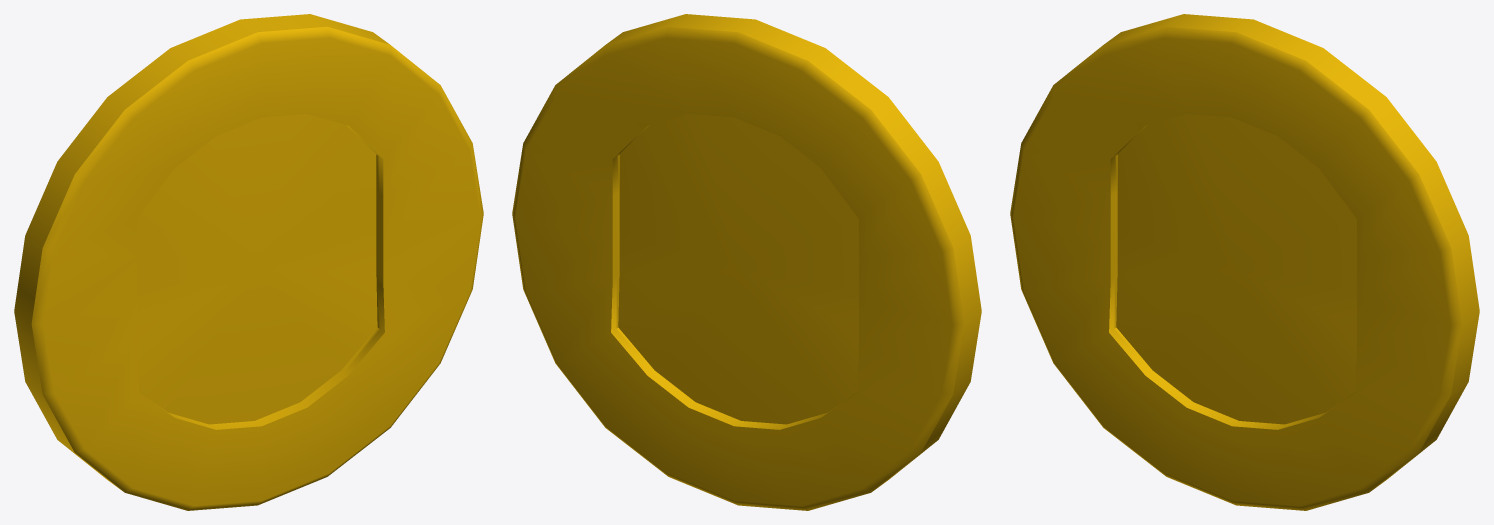
The model's file is coin.fbx.
3 renders of one model, left to right at view 1: azimuth 30°, elevation 25°; view 2: azimuth 150°, elevation 25°; view 3: azimuth 330°, elevation 25°, orthographic.
Visible parts, largest first — view 1: pCylinder1; view 2: pCylinder1; view 3: pCylinder1.
Boxes of the visible parts, bbox=[...] form: pCylinder1: bbox=[14, 14, 483, 510]; pCylinder1: bbox=[512, 14, 981, 510]; pCylinder1: bbox=[1010, 14, 1479, 510].
Bounding box in the file's own units: 30 × 30 × 3.
